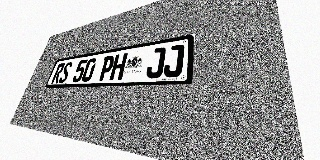0: (81, 58, 98, 82)
5: (72, 59, 88, 82)
H: (109, 53, 128, 80)
J: (162, 44, 185, 78), (145, 47, 166, 79)
P: (98, 55, 116, 81)
R: (51, 63, 66, 83)
S: (58, 62, 73, 83)
